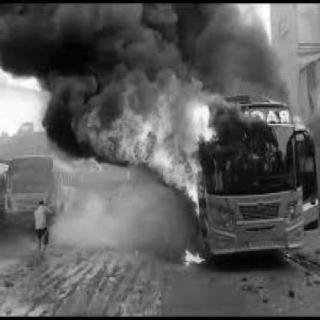Fire: (53, 72, 224, 210), (3, 1, 289, 81), (180, 246, 206, 270), (294, 111, 314, 135)
